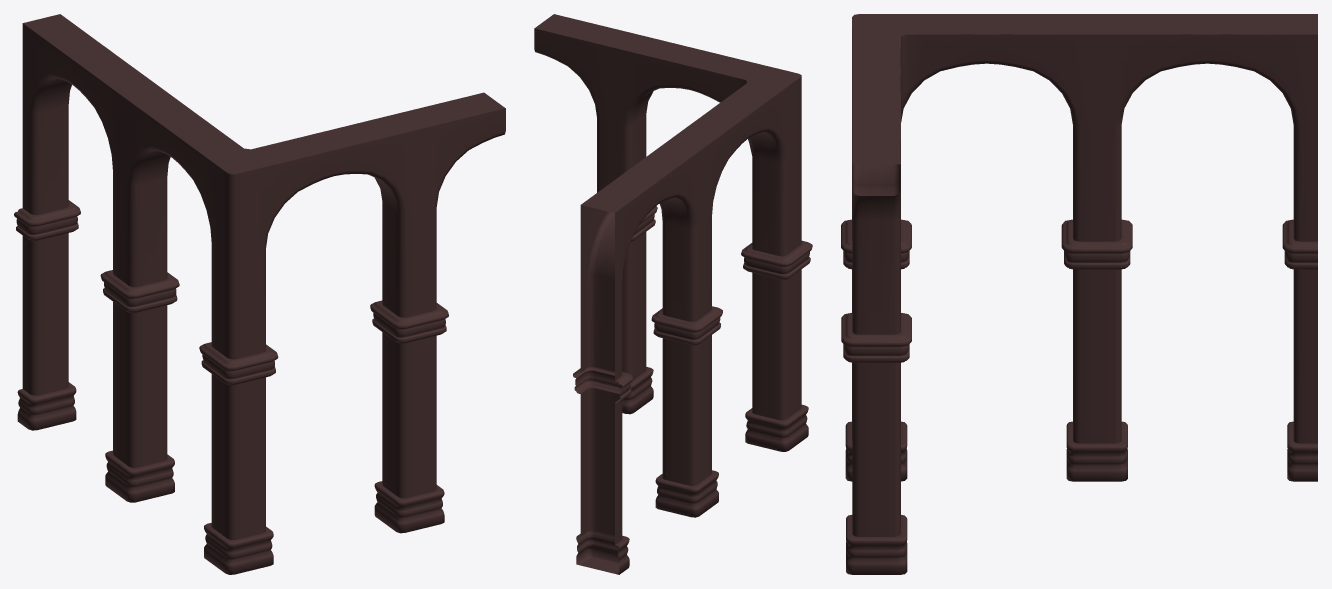
The model's file is LobbyArches.fbx.
3 views of the same model, side by side, from view 1: azimuth 30°, elevation 25°; view 2: azimuth 150°, elevation 25°; view 3: azimuth 270°, elevation 25° (orthographic). The views are drawn at different scales.
Visible parts, largest first — view 1: LobbyArch; view 2: LobbyArch; view 3: LobbyArch.
Part boxes in pixels (x1,y1,x2,y2): LobbyArch: [14, 14, 505, 574]; LobbyArch: [534, 14, 812, 574]; LobbyArch: [841, 14, 1317, 574].
Size of the model in its own units: 5.98 by 8 by 7.78.
